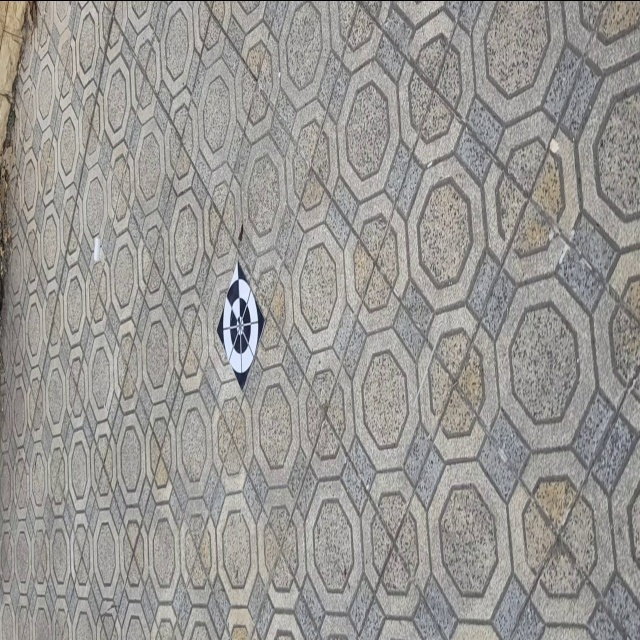landing-zone: (214, 265, 267, 394)
